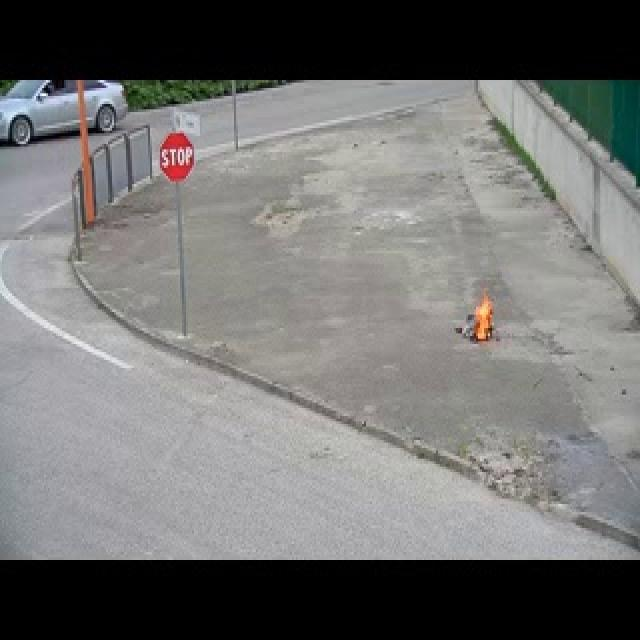Fire: (471, 298, 497, 347)
